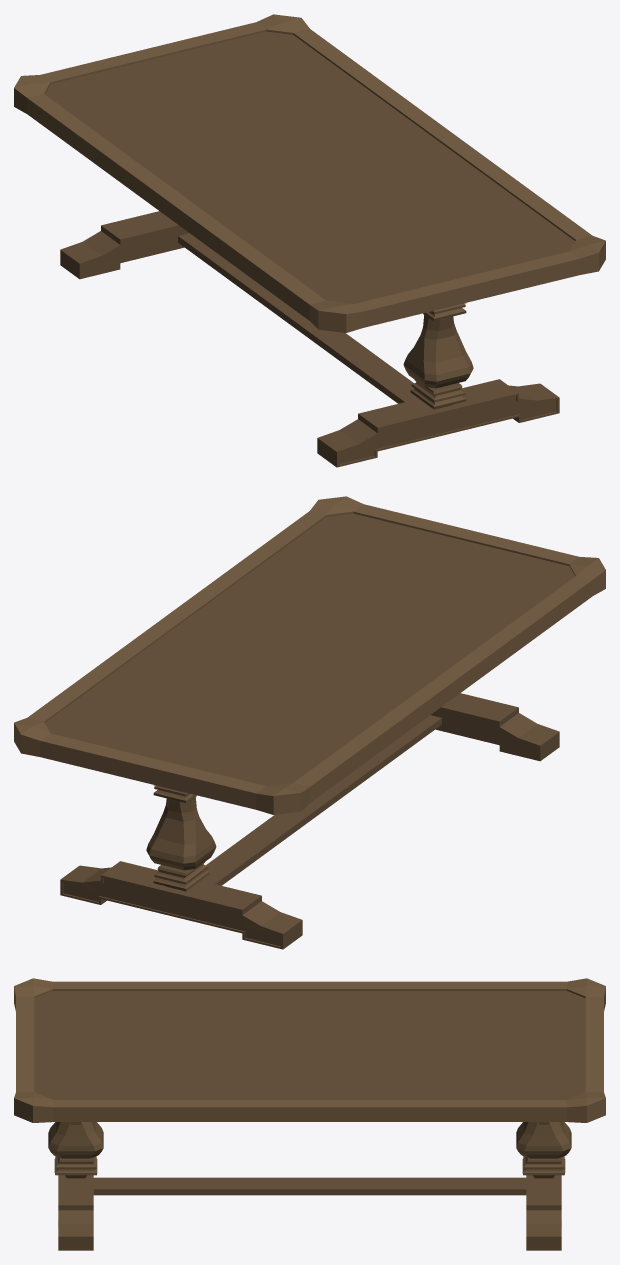
Rendered from Table2.glb.
3 views of the same model, one above another, from view 1: azimuth 30°, elevation 25°; view 2: azimuth 150°, elevation 25°; view 3: azimuth 270°, elevation 25° (orthographic). The views are drawn at different scales.
Visible parts, largest first — view 1: Table2; view 2: Table2; view 3: Table2.
Boxes of the visible parts, x1,y1,x2,y2 form: Table2: (14, 14, 605, 467); Table2: (14, 496, 605, 949); Table2: (14, 978, 605, 1250).
Bounding box in the file's own units: 1.42 × 0.8245 × 2.78.
